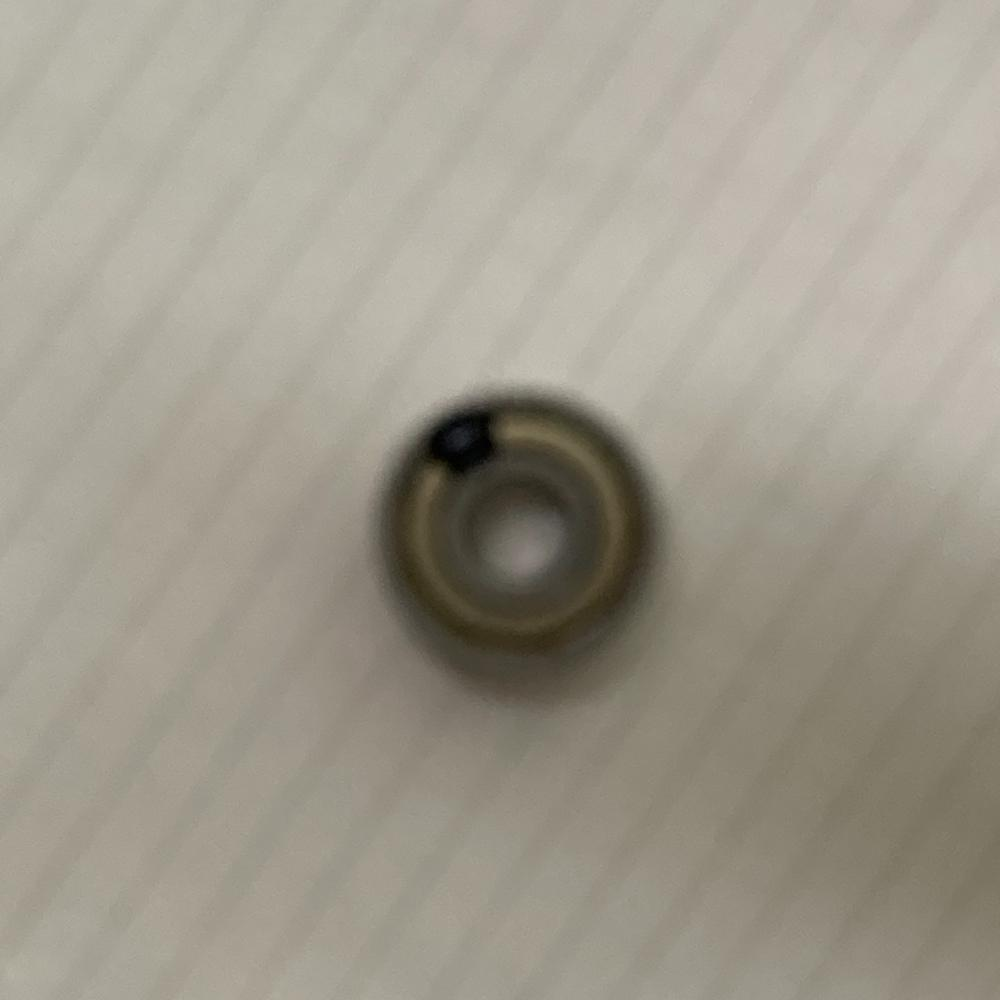ball_bearing_oil_stain: (372, 395, 655, 667)
